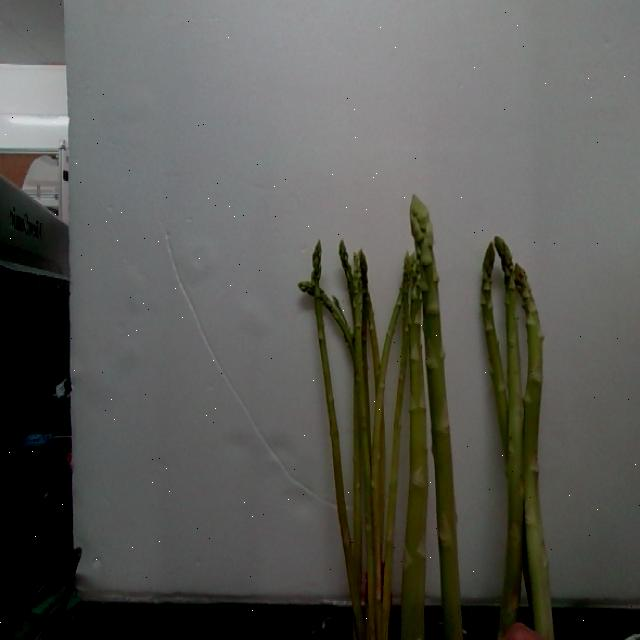aspargus: (408, 197, 466, 640), (514, 261, 553, 640)
